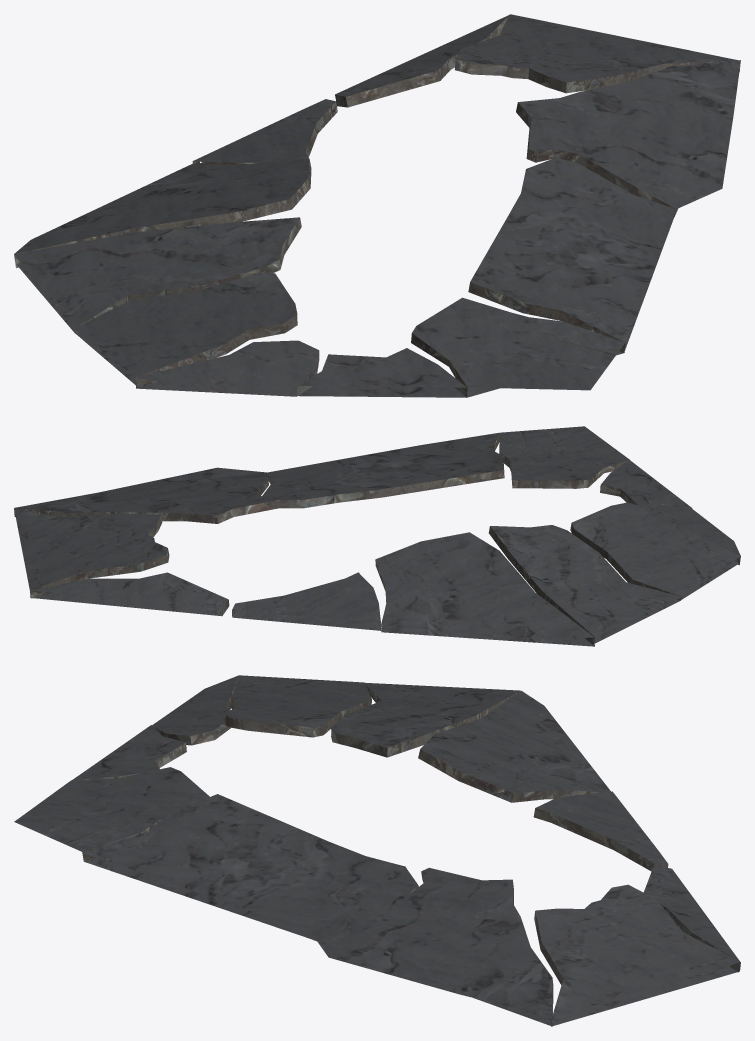
3 renders of one model, top to bottom at view 1: azimuth 30°, elevation 25°; view 2: azimuth 150°, elevation 25°; view 3: azimuth 270°, elevation 25°, orthographic. The views are drawn at different scales.
Visible parts, largest first — view 1: SM_Kuldra_Floor_Dmg_01_LOD0; view 2: SM_Kuldra_Floor_Dmg_01_LOD0; view 3: SM_Kuldra_Floor_Dmg_01_LOD0.
Boxes of the visible parts, x1,y1,x2,y2 form: SM_Kuldra_Floor_Dmg_01_LOD0: (14, 14, 740, 397); SM_Kuldra_Floor_Dmg_01_LOD0: (14, 426, 740, 646); SM_Kuldra_Floor_Dmg_01_LOD0: (14, 675, 740, 1026).
Bounding box in the file's own units: 7.96 × 0.5485 × 7.14.
2 materials, 2 textured.
